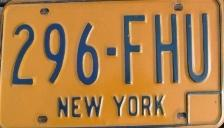2: (8, 21, 39, 87)
6: (73, 20, 102, 87)
9: (40, 21, 71, 86)
F: (119, 10, 149, 89)
H: (152, 12, 180, 86)
U: (183, 11, 211, 85)
